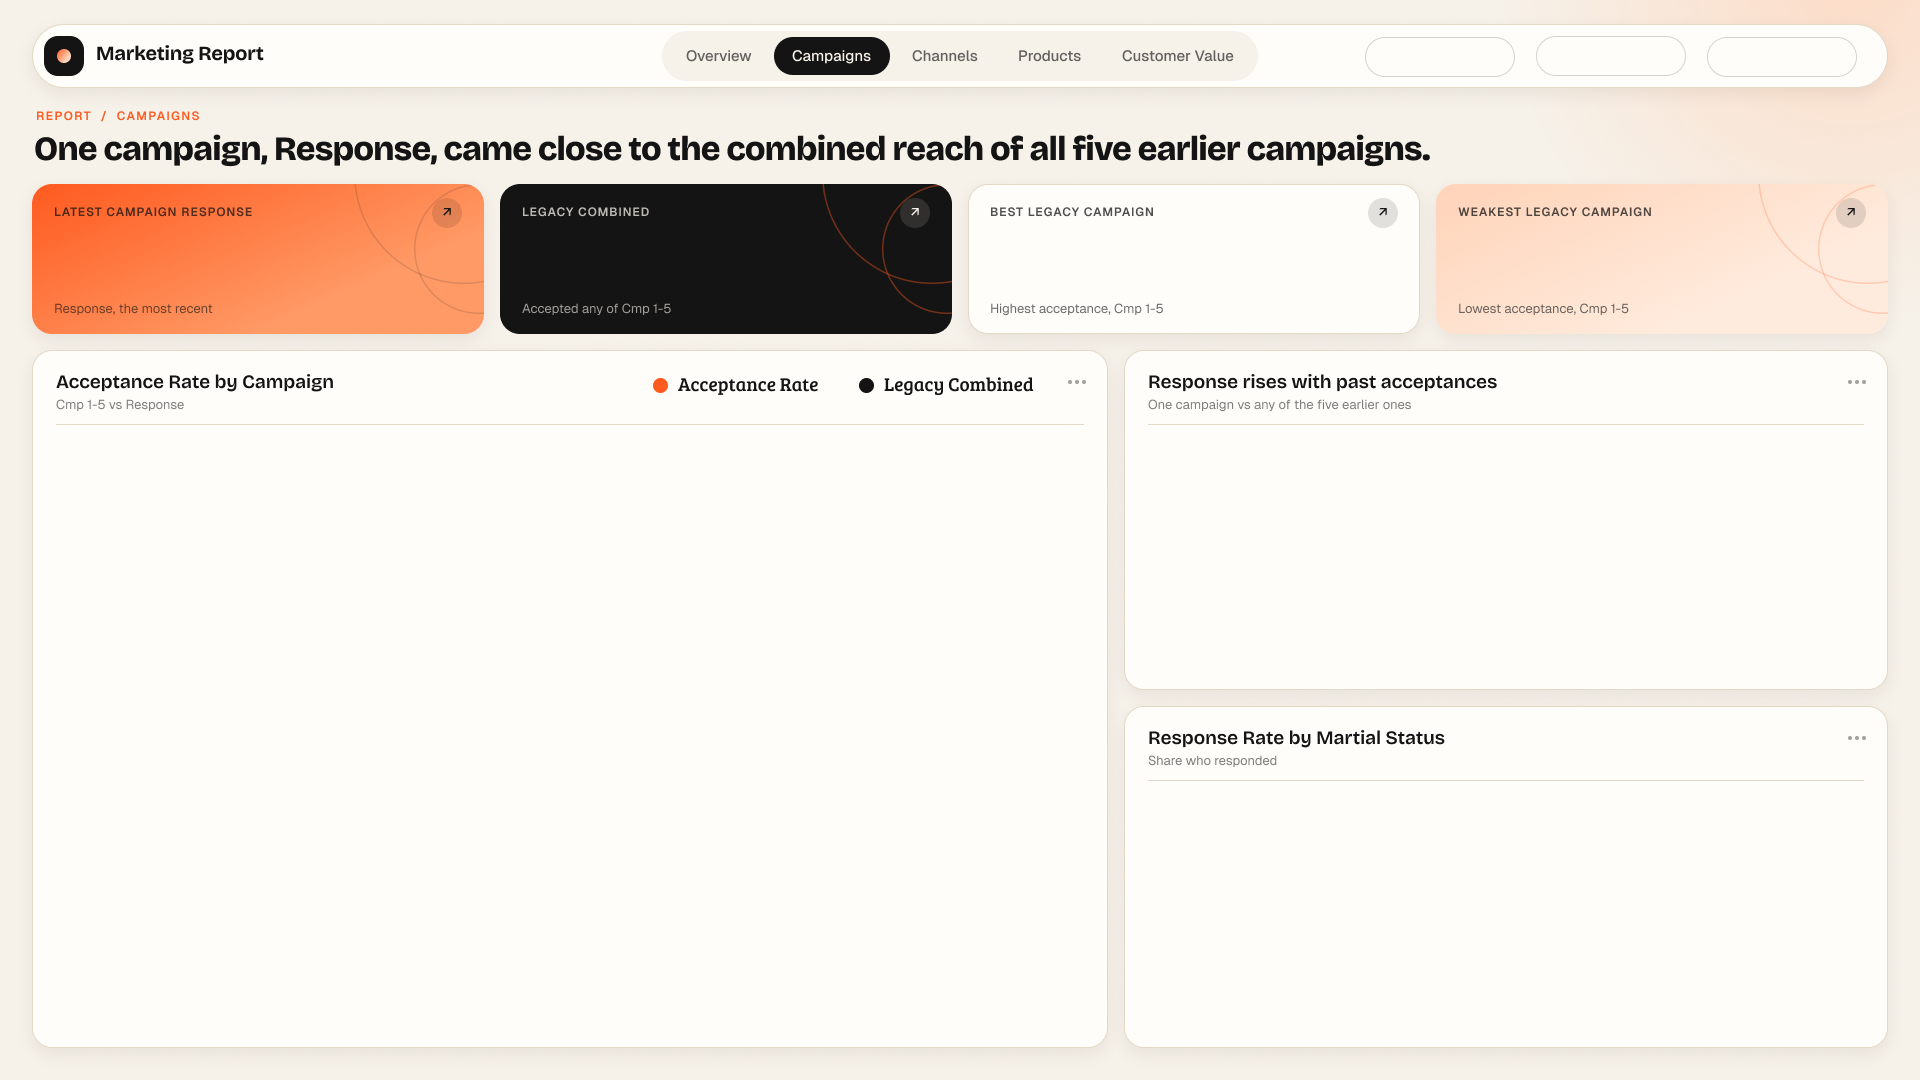

The dashboard page shown, as its layout file describes it:
{"tool":"powerbi","page":{"name":"Campaigns","canvas":[1920,1080],"ordinal":1},"visuals":[{"type":"cardVisual","fields":{"Data":["marketing_data_cleaned.Response Rate"]},"box":[23.8,171.9,198.7,161.9],"z":0},{"type":"cardVisual","fields":{"Data":["marketing_data_cleaned.Any of Cmp 1-5"]},"box":[499.3,195.7,177.3,113.2],"z":1000},{"type":"cardVisual","fields":{"Data":["marketing_data_cleaned.Best Legacy Campaign"]},"box":[960.2,196.2,177.3,113.2],"z":2000},{"type":"cardVisual","fields":{"Data":["marketing_data_cleaned.Weakest Legacy Campaign"]},"box":[1431.8,196.2,177.3,113.2],"z":3000},{"type":"clusteredColumnChart","fields":{"Category":["Campaigns.Campaign"],"Y":["marketing_data_cleaned.Acceptance Rate","marketing_data_cleaned.Any Legacy Rate"]},"box":[56.6,443.3,1028.1,596.1],"z":4000},{"type":"barChart","fields":{"Category":["marketing_data_cleaned.Marital_Status"],"Y":["marketing_data_cleaned.Response Rate"]},"box":[1150.7,767.8,756.5,271.6],"z":5000},{"type":"actionButton","box":[662.3,27.1,110.4,43.4],"z":7000},{"type":"actionButton","box":[888.5,27.1,110.4,43.4],"z":8000},{"type":"actionButton","box":[998.9,27.1,110.4,43.4],"z":9000},{"type":"actionButton","box":[1112.9,27.1,128.5,43.4],"z":10000},{"type":"slicer","fields":{"Values":["marketing_data_cleaned.Income_Tier"]},"box":[1373,30,135.7,43.4],"z":11000},{"type":"slicer","fields":{"Values":["marketing_data_cleaned.Education"]},"box":[1543.9,30.8,135,43.4],"z":12000},{"type":"slicer","fields":{"Values":["marketing_data_cleaned.Country"]},"box":[1714,30,135,43],"z":13000},{"type":"clusteredColumnChart","fields":{"Category":["marketing_data_cleaned.Prior Campaigns Accepted"],"Y":["marketing_data_cleaned.Response (1 campaign)"]},"box":[1137.7,423.8,740.7,273],"z":13001}]}

Visuals, with their boxes in screenshot pixels (x1, y1, x2, y2), scaled from the page's 1920x1080 canvas onto the 1920x1080 screenshot:
cardVisual - marketing_data_cleaned.Response Rate: x1=24, y1=172, x2=222, y2=334
cardVisual - marketing_data_cleaned.Any of Cmp 1-5: x1=499, y1=196, x2=677, y2=309
cardVisual - marketing_data_cleaned.Best Legacy Campaign: x1=960, y1=196, x2=1138, y2=309
cardVisual - marketing_data_cleaned.Weakest Legacy Campaign: x1=1432, y1=196, x2=1609, y2=309
clusteredColumnChart - Campaigns.Campaign x marketing_data_cleaned.Acceptance Rate: x1=57, y1=443, x2=1085, y2=1039
barChart - marketing_data_cleaned.Marital_Status x marketing_data_cleaned.Response Rate: x1=1151, y1=768, x2=1907, y2=1039
actionButton: x1=662, y1=27, x2=773, y2=70
actionButton: x1=888, y1=27, x2=999, y2=70
actionButton: x1=999, y1=27, x2=1109, y2=70
actionButton: x1=1113, y1=27, x2=1241, y2=70
slicer - marketing_data_cleaned.Income_Tier: x1=1373, y1=30, x2=1509, y2=73
slicer - marketing_data_cleaned.Education: x1=1544, y1=31, x2=1679, y2=74
slicer - marketing_data_cleaned.Country: x1=1714, y1=30, x2=1849, y2=73
clusteredColumnChart - marketing_data_cleaned.Prior Campaigns Accepted x marketing_data_cleaned.Response (1 campaign): x1=1138, y1=424, x2=1878, y2=697
